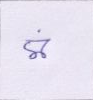anusvara: (37, 29, 41, 32)
